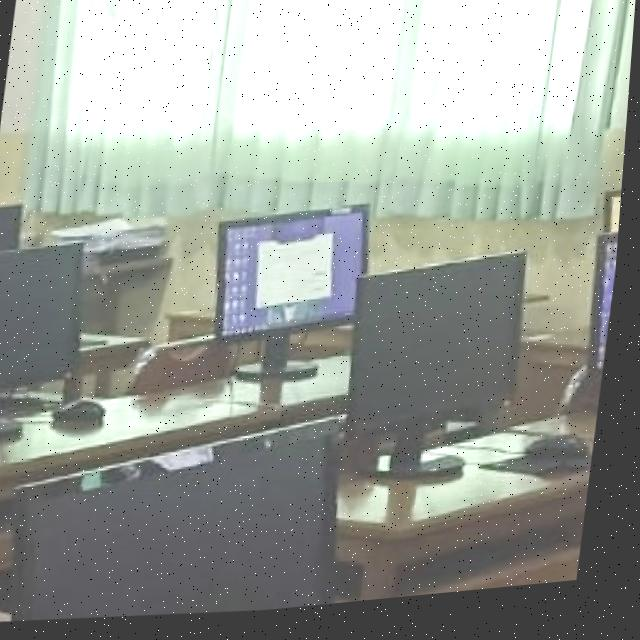offscreen: (23, 423, 351, 622), (357, 264, 529, 433), (0, 248, 87, 383)
onscreen: (221, 213, 371, 343)
